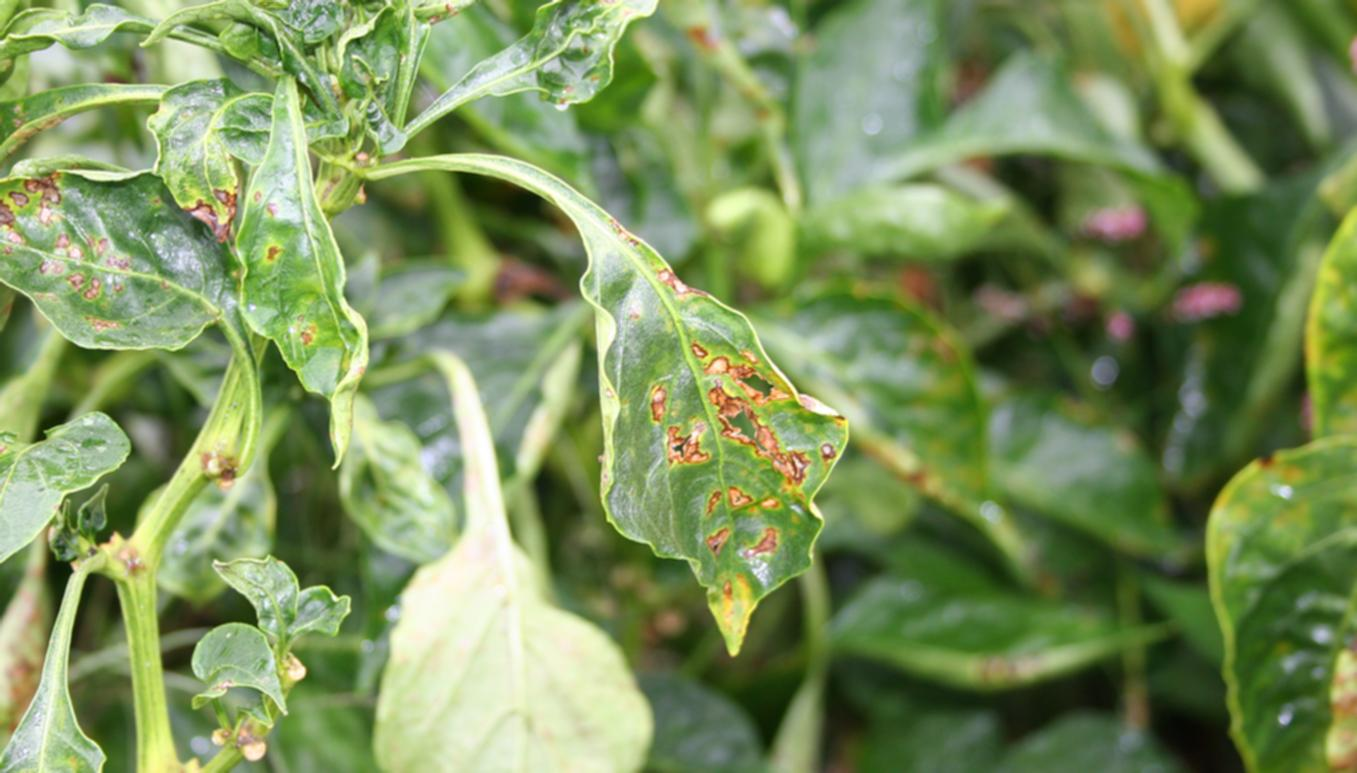Tomato leaf bacterial spot: (528, 188, 871, 661), (1187, 397, 1357, 773), (219, 101, 399, 410), (0, 125, 211, 354)
